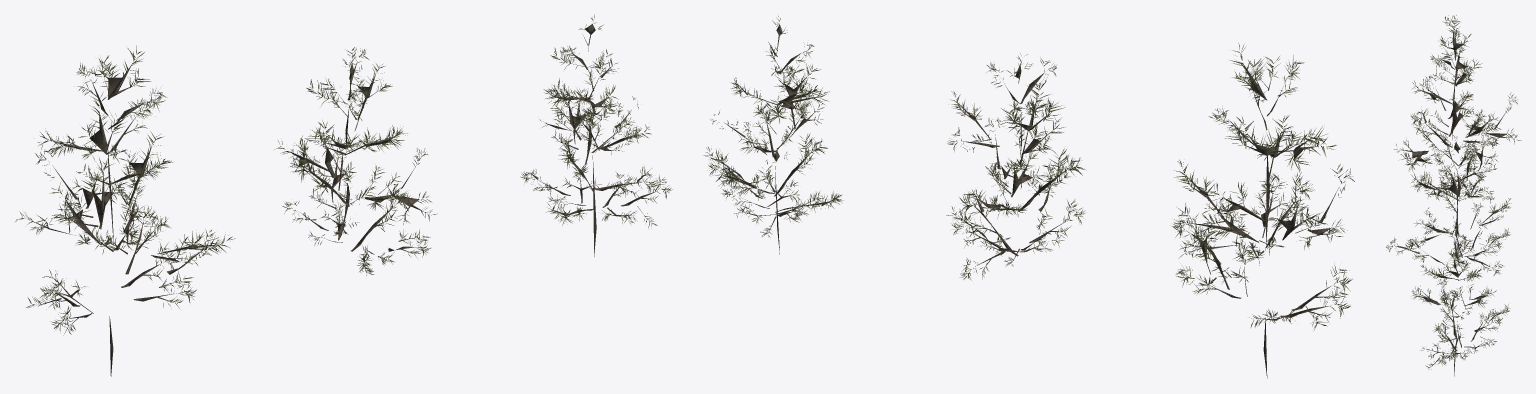
The model's file is pine_sapling_small.glb.
3 renders of one model, left to right at view 1: azimuth 30°, elevation 25°; view 2: azimuth 150°, elevation 25°; view 3: azimuth 270°, elevation 25°, orthographic. The views are drawn at different scales.
Parts seen in each view (by area): view 1: pine_sapling_small_a, pine_sapling_small_b, pine_sapling_small_c; view 2: pine_sapling_small_a, pine_sapling_small_b, pine_sapling_small_c; view 3: pine_sapling_small_a, pine_sapling_small_b, pine_sapling_small_c.
Boxes of the visible parts, <box> form: pine_sapling_small_a: <box>15,45,235,376</box>; pine_sapling_small_b: <box>274,47,437,275</box>; pine_sapling_small_c: <box>520,14,672,256</box>; pine_sapling_small_a: <box>1170,43,1354,378</box>; pine_sapling_small_b: <box>946,53,1086,280</box>; pine_sapling_small_c: <box>703,16,843,254</box>; pine_sapling_small_a: <box>1394,15,1521,225</box>; pine_sapling_small_b: <box>1386,134,1511,275</box>; pine_sapling_small_c: <box>1411,227,1510,376</box>.
Bounding box in the file's own units: 2.64 × 1.29 × 0.7632.
2 materials, 2 textured.
